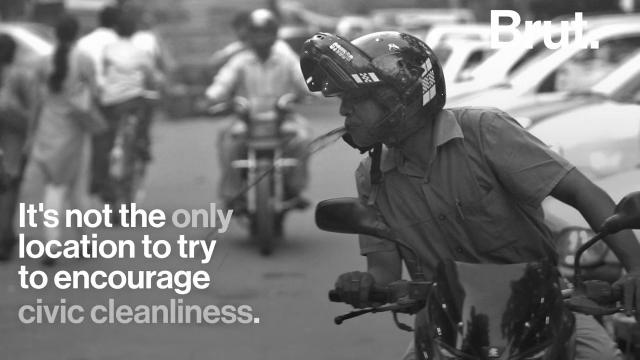spit: (216, 45, 437, 259)
